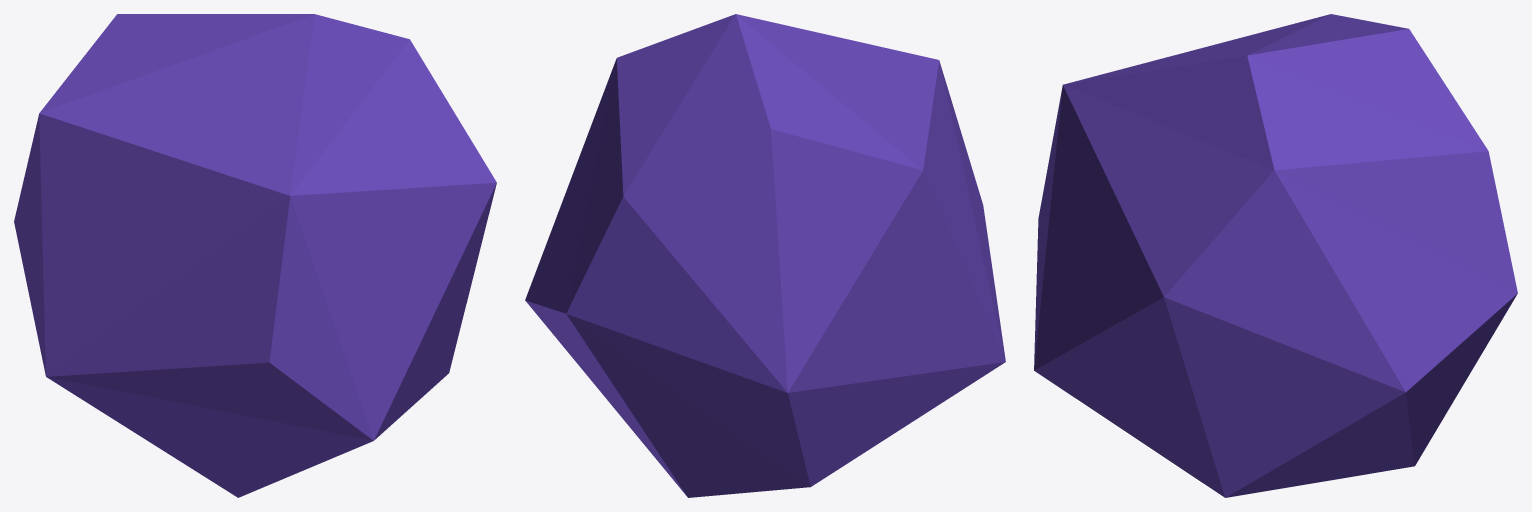
Rendered from Gem_9.fbx.
3 renders of one model, left to right at view 1: azimuth 30°, elevation 25°; view 2: azimuth 150°, elevation 25°; view 3: azimuth 270°, elevation 25°, orthographic. The views are drawn at different scales.
Visible parts, largest first — view 1: Gem_9; view 2: Gem_9; view 3: Gem_9.
Part boxes in pixels (bbox=[...]): Gem_9: bbox=[14, 14, 496, 497]; Gem_9: bbox=[525, 14, 1005, 497]; Gem_9: bbox=[1034, 14, 1517, 497].
Bounding box in the file's own units: 47.5 × 50.1 × 48.01.
